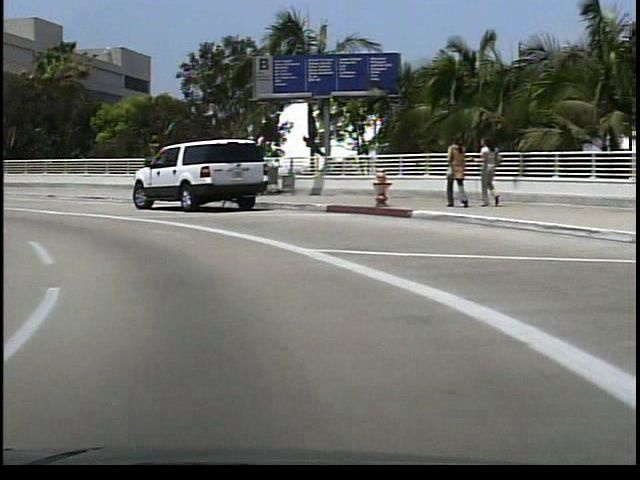person: (468, 134, 496, 210), (438, 131, 463, 215)
